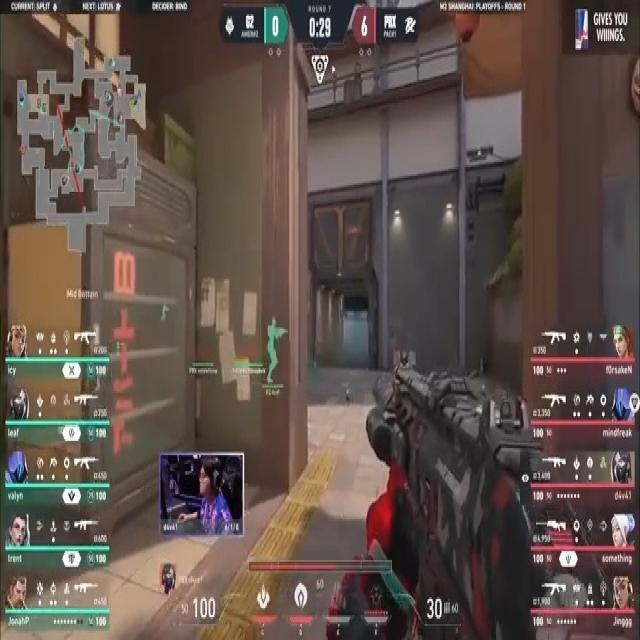ally behind wall: (264, 314, 289, 388)
